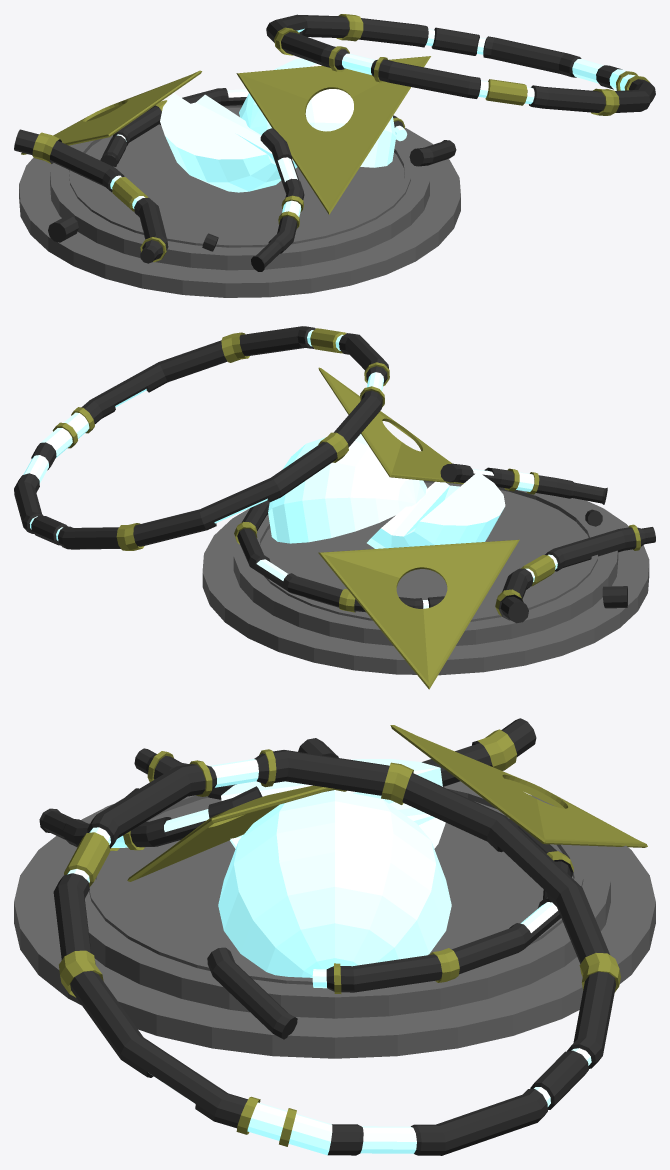
File: ruins 2.fbx
3 views of the same model, one above another, from view 1: azimuth 30°, elevation 25°; view 2: azimuth 150°, elevation 25°; view 3: azimuth 270°, elevation 25° (orthographic). The views are drawn at different scales.
Parts seen in each view (by area): view 1: Circle.002, Torus.012, Torus.009, Sphere.002, Torus.003, Sphere.003, Torus.013, Torus.010, Torus.011, Torus.004, Torus.001; view 2: Circle.002, Torus.012, Torus.010, Sphere.003, Sphere.002, Torus.003, Torus.009, Torus.011, Torus.013, Torus.001; view 3: Circle.002, Torus.012, Sphere.003, Torus.010, Torus.011, Torus.009, Torus.013, Torus.003, Torus.004, Sphere.002.
Boxes of the visible parts, box(x1,y1,x2,y2) form: Circle.002: box(19, 105, 460, 297); Torus.012: box(266, 14, 655, 115); Torus.009: box(236, 56, 430, 214); Sphere.002: box(160, 93, 297, 192); Torus.003: box(14, 129, 168, 263); Sphere.003: box(239, 58, 396, 167); Torus.013: box(251, 128, 304, 271); Torus.010: box(21, 70, 201, 154); Torus.011: box(100, 88, 407, 166); Torus.004: box(409, 140, 456, 166); Torus.001: box(48, 215, 78, 242); Circle.002: box(202, 480, 649, 675); Torus.012: box(14, 326, 389, 550); Torus.010: box(318, 539, 519, 689); Sphere.003: box(268, 434, 426, 543); Sphere.002: box(367, 472, 505, 548); Torus.003: box(495, 524, 655, 623); Torus.009: box(318, 367, 463, 484); Torus.011: box(234, 500, 444, 612); Torus.013: box(440, 463, 607, 504); Torus.001: box(602, 586, 627, 608); Circle.002: box(14, 781, 655, 1058); Torus.012: box(53, 749, 620, 1155); Sphere.003: box(218, 790, 451, 977); Torus.010: box(390, 725, 647, 847); Torus.011: box(312, 818, 573, 993); Torus.009: box(127, 785, 346, 881); Torus.013: box(39, 786, 262, 850); Torus.003: box(134, 718, 536, 799); Torus.004: box(207, 947, 297, 1039); Sphere.002: box(221, 759, 445, 848).
Bounding box in the file's own units: 833 × 218 × 549.
